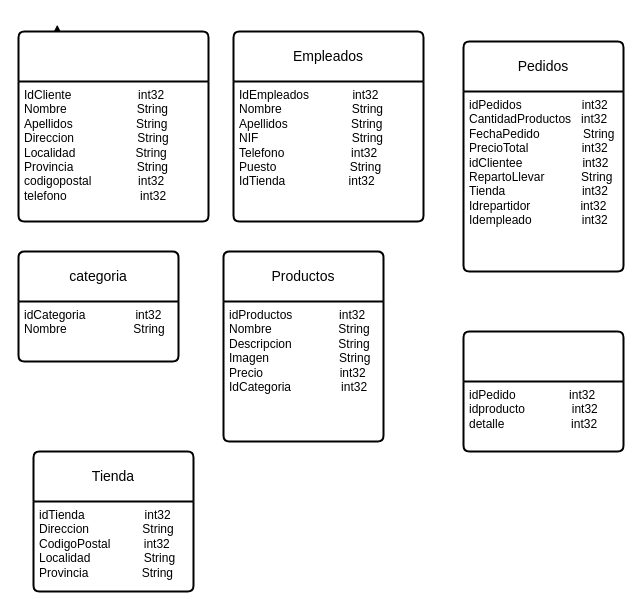
The diagram is 641 pixels wide and 610 high, and some of its shapes have lost their labels. The box of each missing label's shape, as (x1, y1, x2, y2) in pixels:
Clientes: (17, 30, 209, 222)
ProductosdelPedido: (462, 330, 624, 452)
